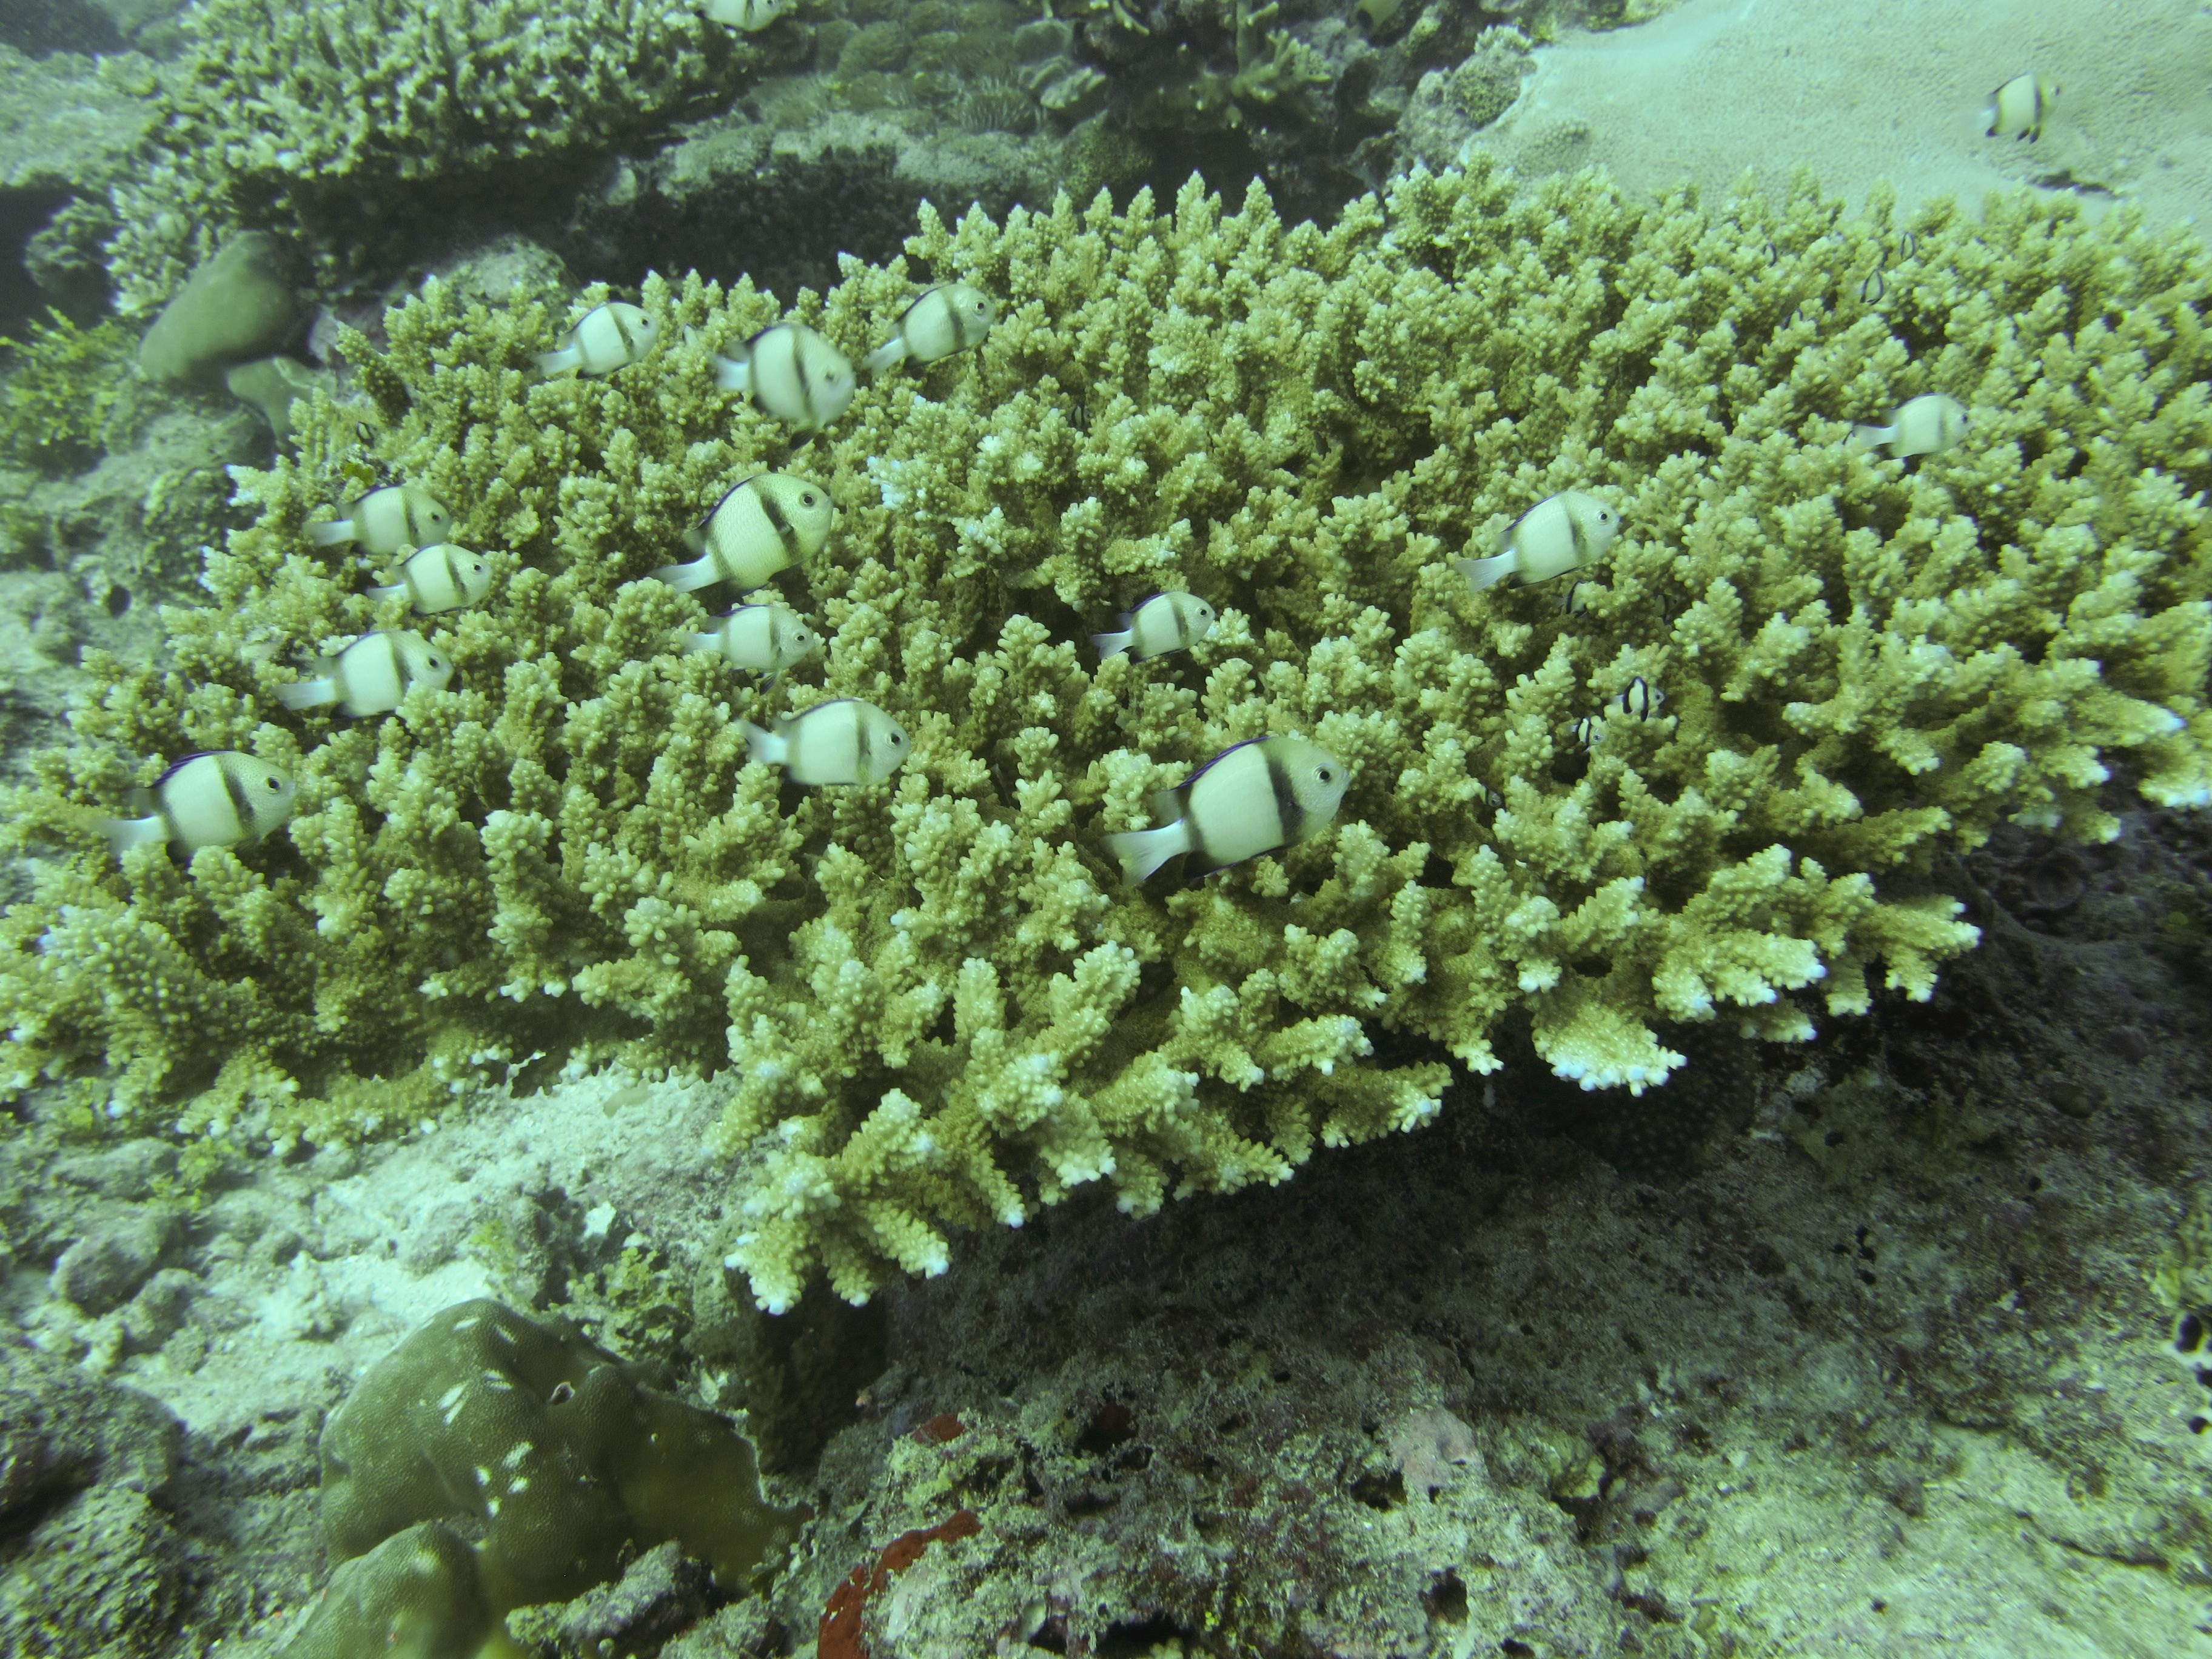Dascyllus reticulatus: (1089, 720, 1362, 899), (110, 744, 310, 885), (655, 483, 878, 591), (1465, 476, 1649, 603), (686, 319, 860, 441), (725, 695, 925, 798), (1068, 586, 1242, 697), (289, 626, 482, 725), (871, 274, 1015, 383), (1857, 383, 1993, 486), (667, 594, 822, 681), (380, 544, 524, 633), (540, 286, 657, 392), (314, 483, 458, 551), (1986, 77, 2067, 148)
